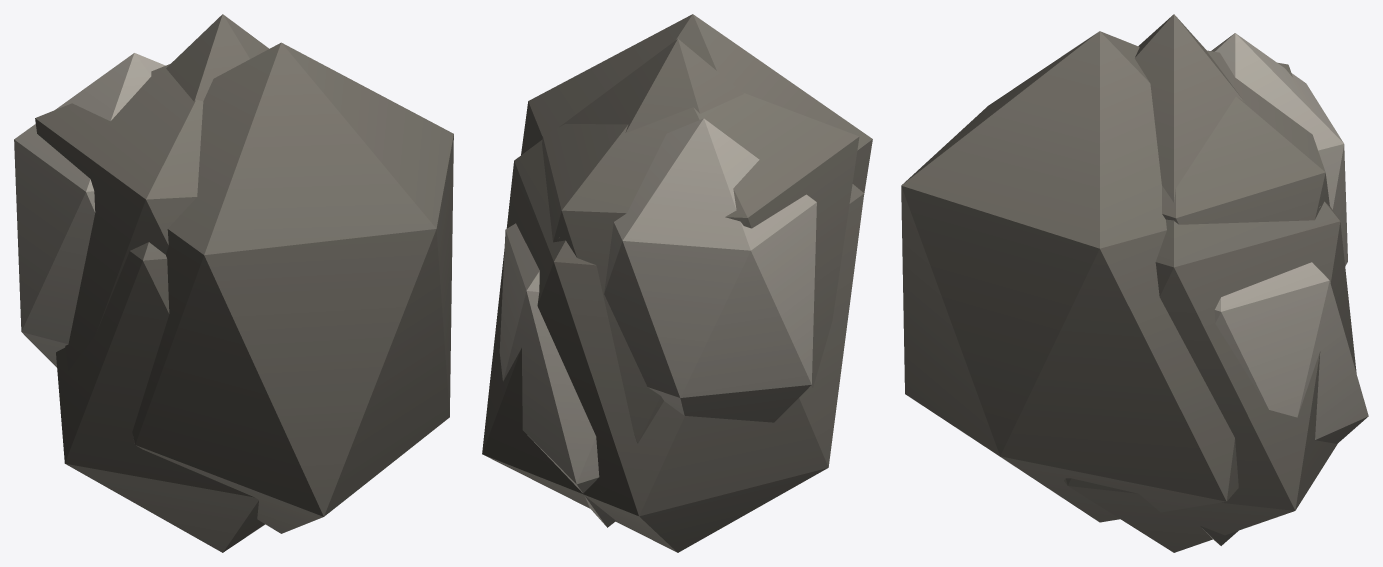
Rendered from mountain_0.glb.
The picture shows the model from 3 angles, left to right: view 1: azimuth 30°, elevation 25°; view 2: azimuth 150°, elevation 25°; view 3: azimuth 270°, elevation 25°; orthographic projection. The views are drawn at different scales.
Parts seen in each view (by area): view 1: mountain_0; view 2: mountain_0; view 3: mountain_0.
Part boxes in pixels (x1,y1,x2,y2): mountain_0: [14, 14, 453, 552]; mountain_0: [482, 14, 872, 552]; mountain_0: [901, 14, 1368, 552].
Size of the model in its own units: 0.8738 by 1.23 by 0.9698.
Materials: 1 (1 with a texture image).
